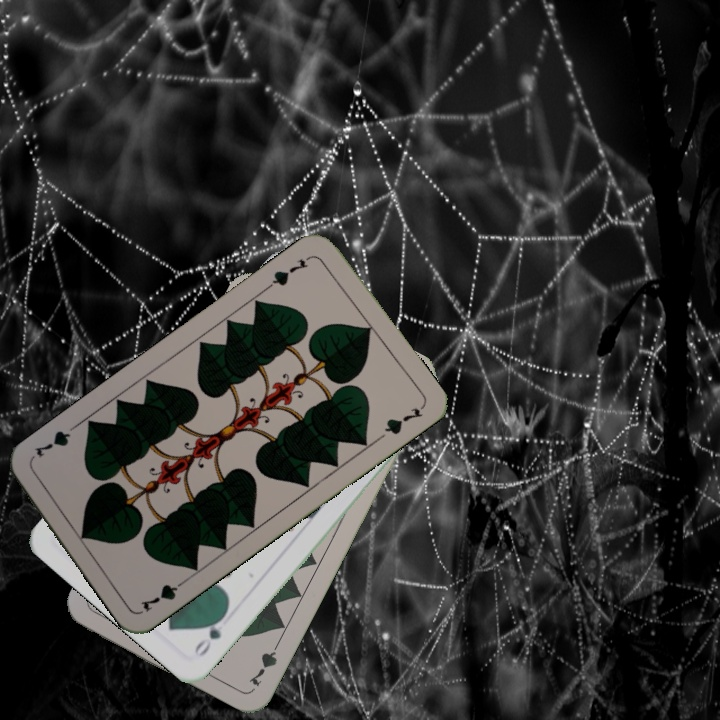G7: (136, 574, 190, 615), (244, 635, 284, 689), (263, 251, 315, 292)
GO: (190, 608, 230, 660)
